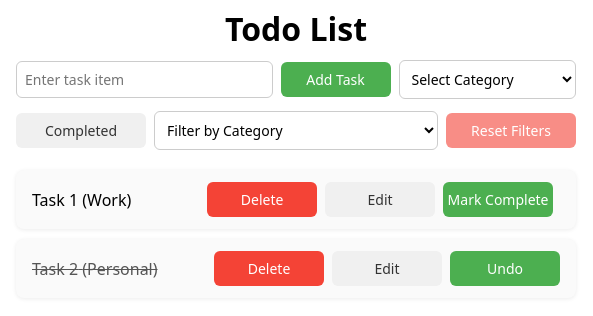
Test: TodoList Component › edits a task
Click the button "Edit" in the row of "Task 1" at (380, 200), box [325, 182, 435, 217]
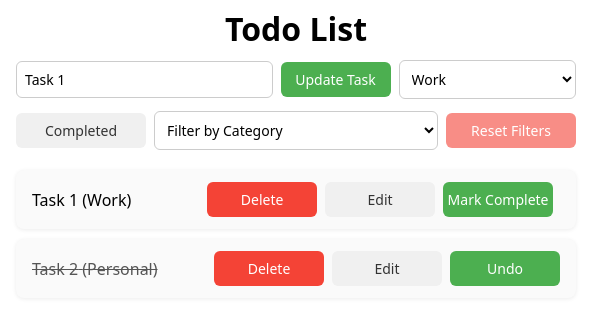
Replace the text in the field with placeholder "Enter task item" with "Updated Task" at (144, 80), box [16, 61, 272, 98]
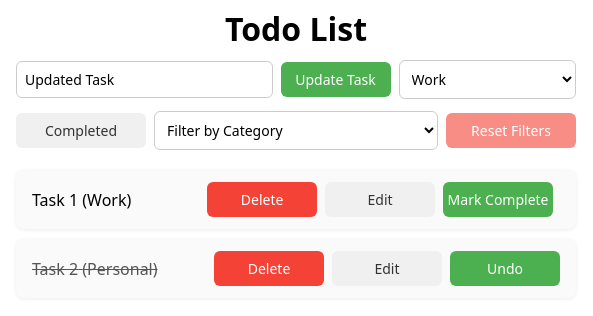
Click the button "Update Task" at (336, 80), box [280, 62, 390, 97]
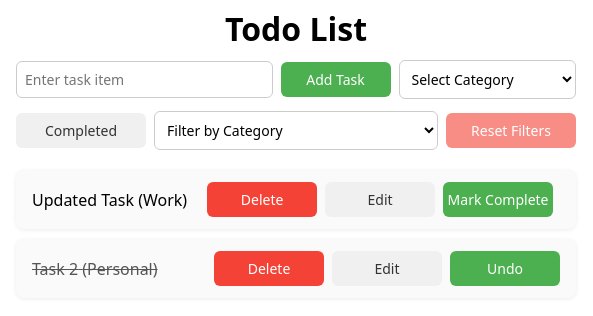
Expected: the text "Updated Task (Work)" is shown, [32, 188, 187, 210]
